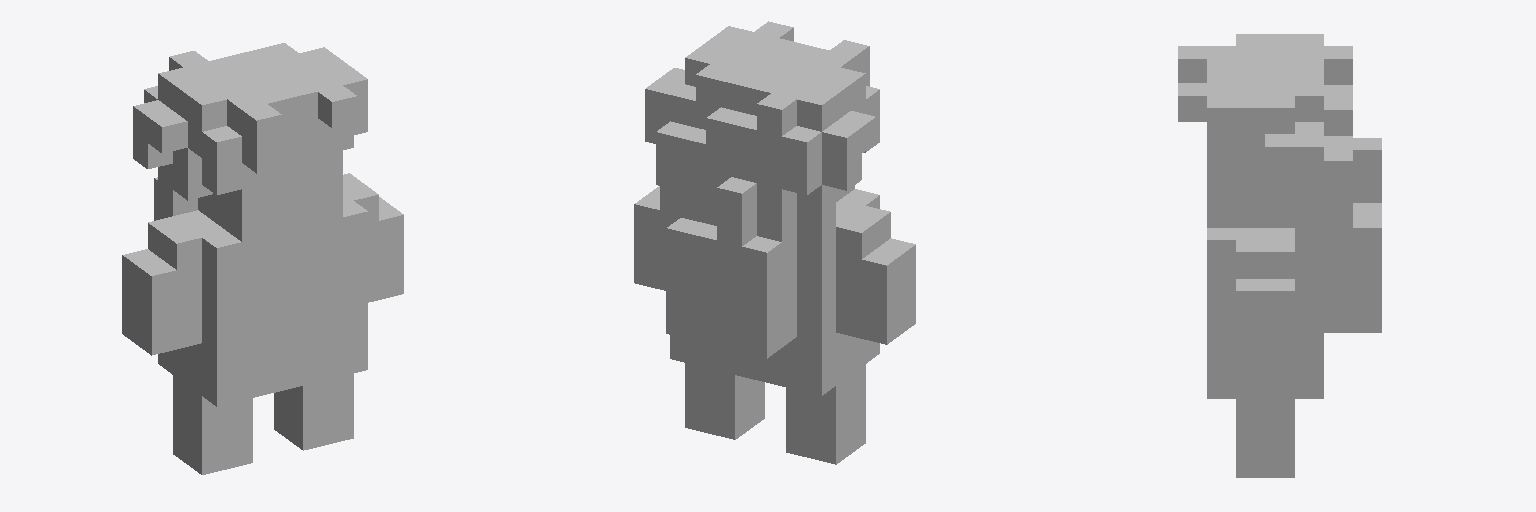
Rendered from Woman 1.obj.
3 views of the same model, side by side, from view 1: azimuth 30°, elevation 25°; view 2: azimuth 150°, elevation 25°; view 3: azimuth 270°, elevation 25° (orthographic).
Visible parts, largest first — view 1: object 1; view 2: object 1; view 3: object 1.
Part boxes in pixels (x1,y1,x2,y2): object 1: (122, 43, 403, 474); object 1: (634, 21, 915, 464); object 1: (1178, 34, 1381, 477).
Size of the model in its own units: 1 by 1.4 by 0.7.